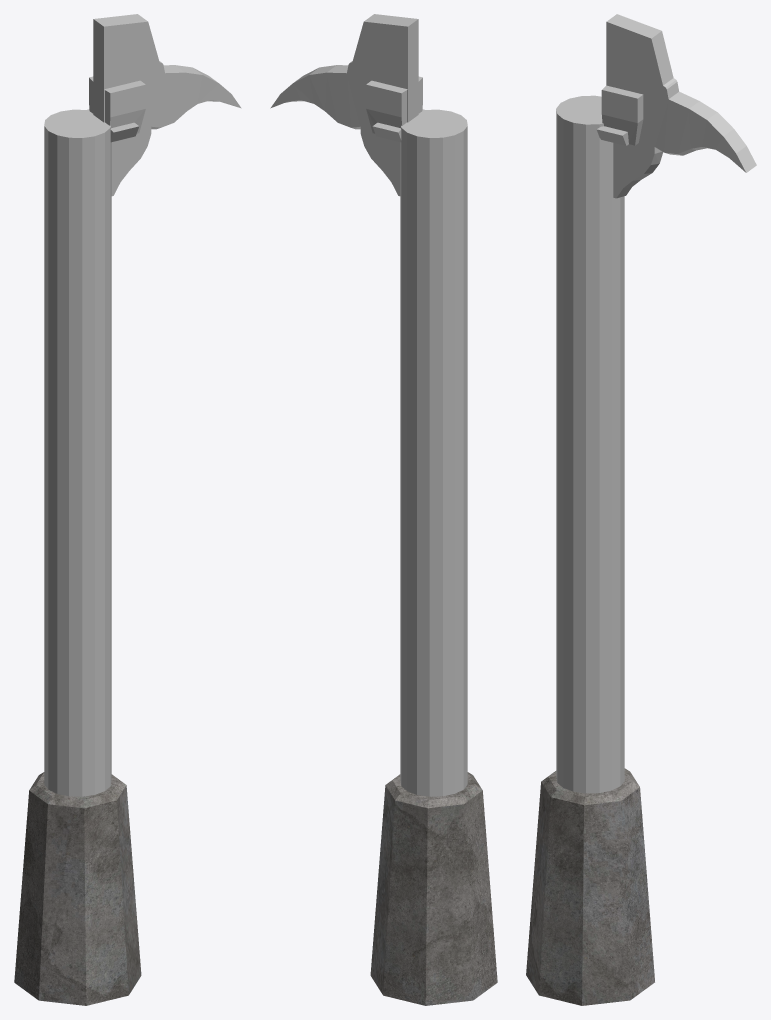
Rendered from SM_Pillar_14.FBX.
3 views of the same model, side by side, from view 1: azimuth 30°, elevation 25°; view 2: azimuth 150°, elevation 25°; view 3: azimuth 330°, elevation 25° (orthographic).
Visible parts, largest first — view 1: SM_Pillar_14; view 2: SM_Pillar_14; view 3: SM_Pillar_14.
Part boxes in pixels (x1,y1,x2,y2): SM_Pillar_14: (14,14,241,1005); SM_Pillar_14: (270,14,497,1005); SM_Pillar_14: (526,14,756,1005).
Size of the model in its own units: 248 by 1074 by 121.
